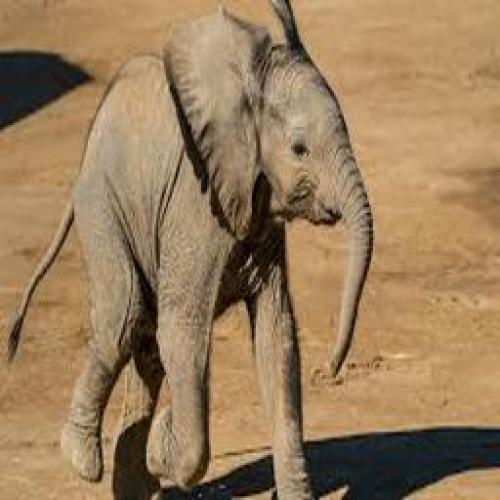african_elephant-endangered: (33, 0, 370, 500)
